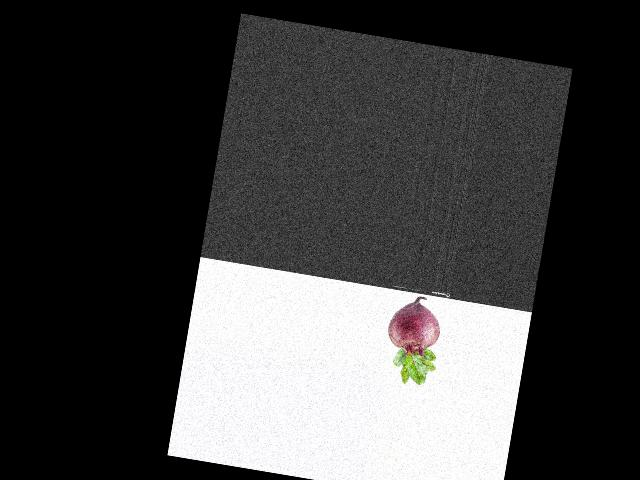beet: (379, 292, 446, 388)
